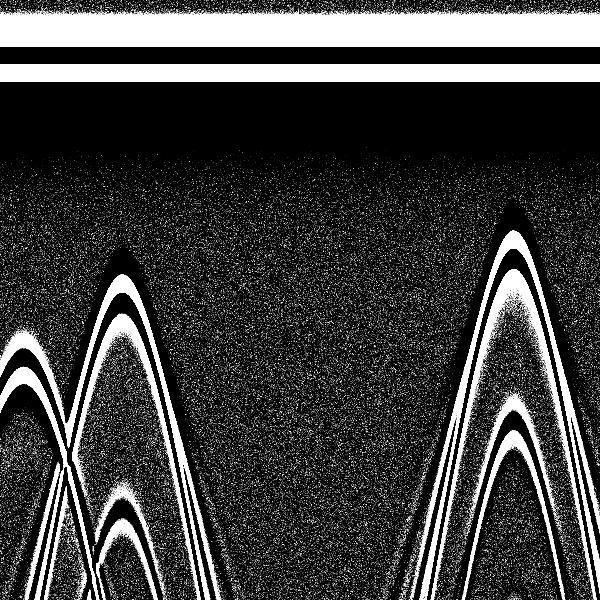pipe: (75, 4, 169, 357), (1, 5, 66, 423), (469, 6, 558, 307)
